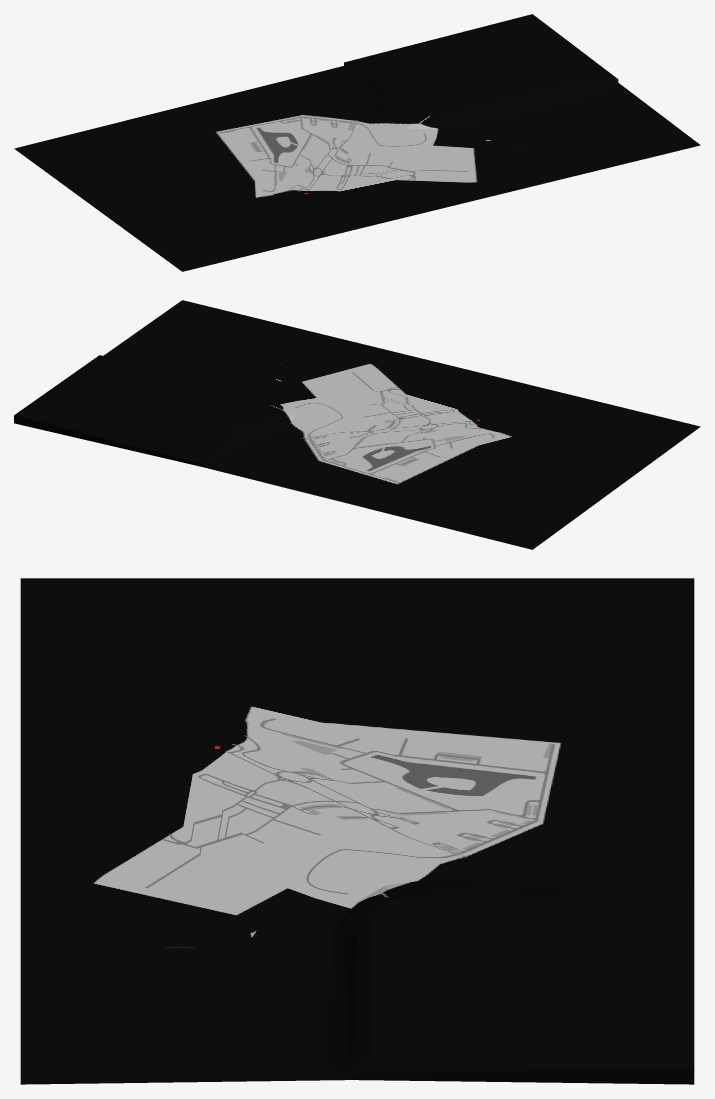
Rendered from plano_unifei_2.0.fbx.
3 renders of one model, top to bottom at view 1: azimuth 30°, elevation 25°; view 2: azimuth 150°, elevation 25°; view 3: azimuth 270°, elevation 25°, orthographic. The views are drawn at different scales.
Visible parts, largest first — view 1: Plane.001; view 2: Plane.001; view 3: Plane.001.
Boxes of the visible parts, x1,y1,x2,y2 form: Plane.001: (14, 14, 700, 271); Plane.001: (14, 300, 700, 549); Plane.001: (20, 578, 694, 1084).
Bounding box in the file's own units: 2304 × 34 × 1296.
